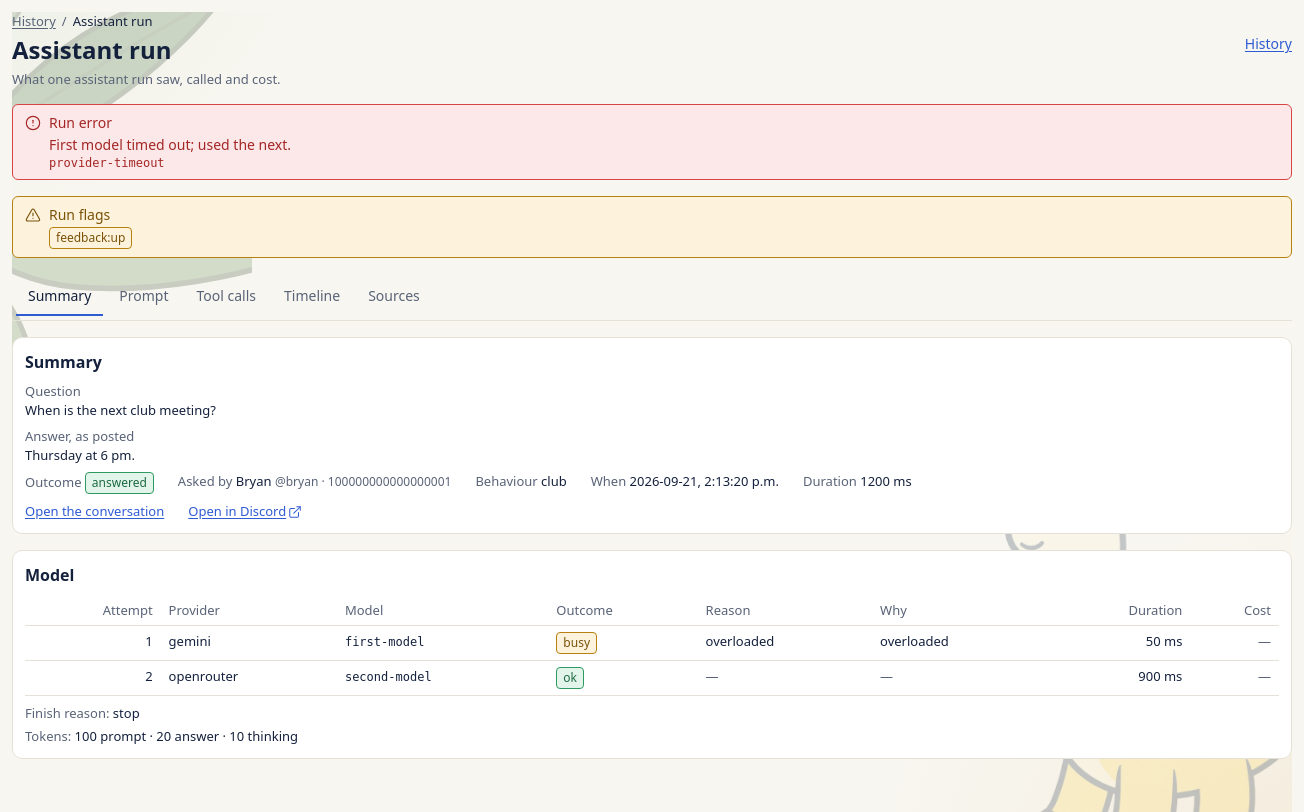
Test: AssistantHistoryDetailPage › says tools were not recorded for a pre-included trace
This screenshot has width=1304, height=812.
Click the tab "Tool calls": click(226, 297) [184,278,268,316]
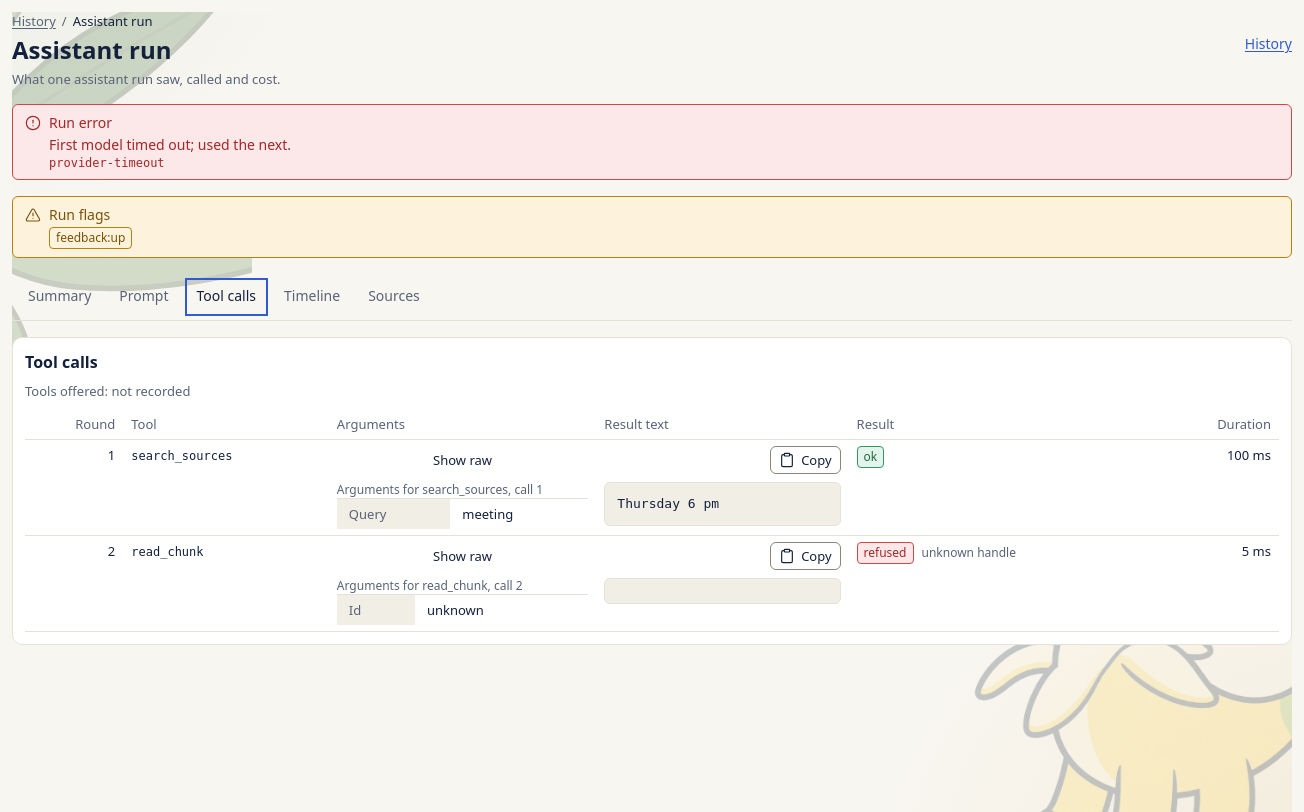
Expected: the text "not recorded" is shown, [112,382,190,400]
